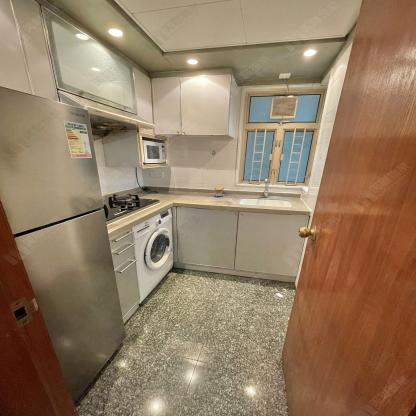Cupboard: (173, 208, 311, 285), (108, 229, 142, 325)
Exhaust Fan: (273, 97, 297, 118)
Exhaust Hood: (56, 89, 156, 138)
Faucet: (260, 177, 271, 198)
Fridge: (0, 87, 127, 410)
Sink: (237, 197, 294, 209)
Stove: (99, 190, 160, 226)
Washing Machine: (131, 207, 175, 307)
